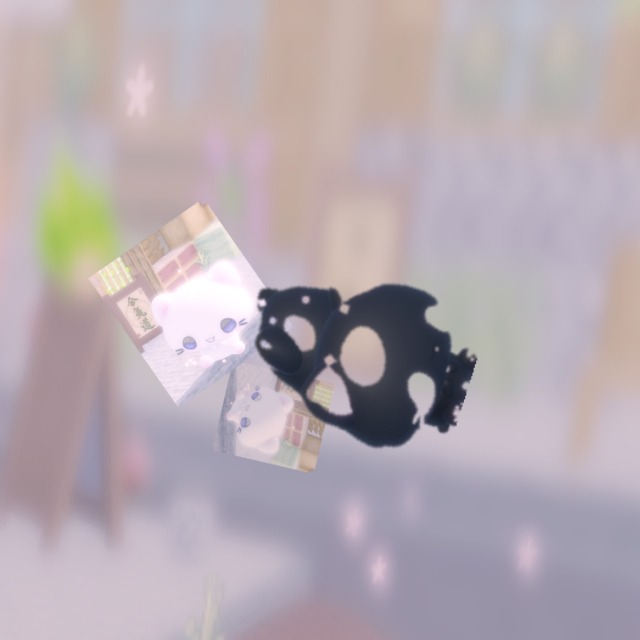urso_branco: (88, 198, 294, 408), (212, 360, 335, 474)
urso_preto: (207, 223, 498, 476)
